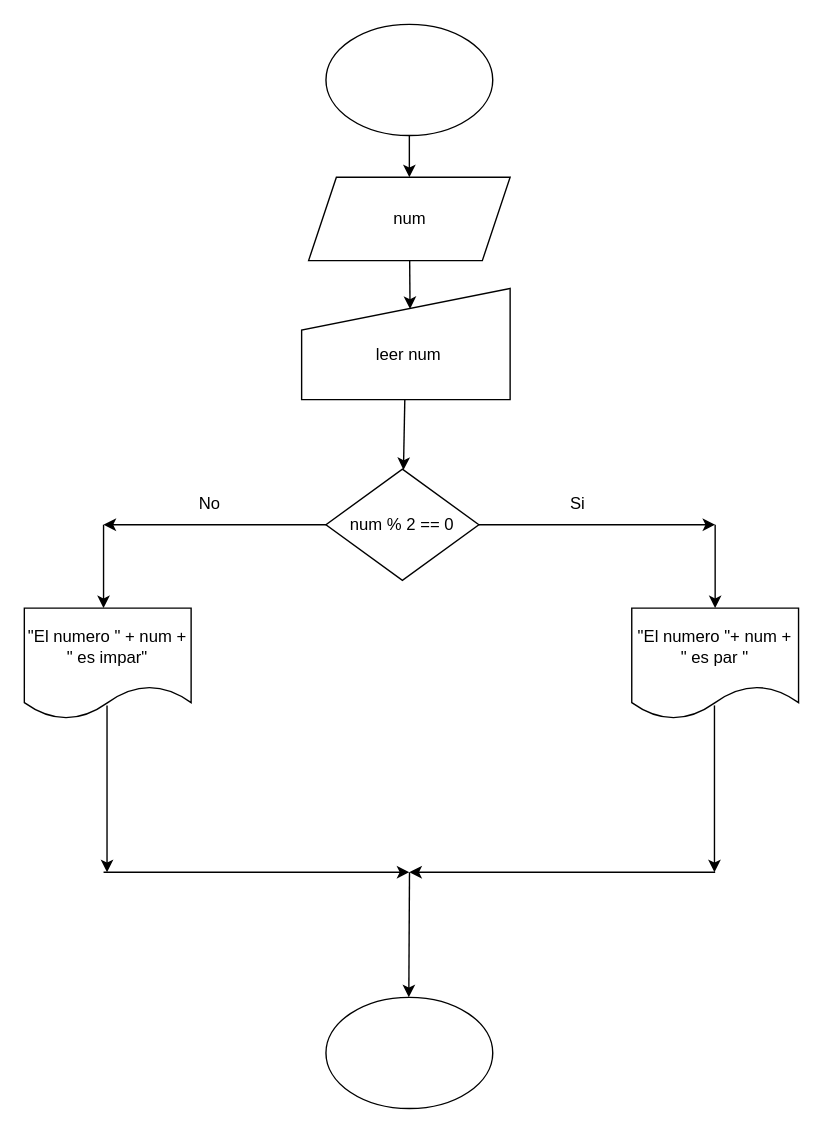
The diagram is 823 pixels wide and 1133 high, and some of its shapes have lost their labels. Each missing label, with the box of its shape:
Fin: (325, 996, 493, 1109)
Inicio: (325, 23, 493, 136)
